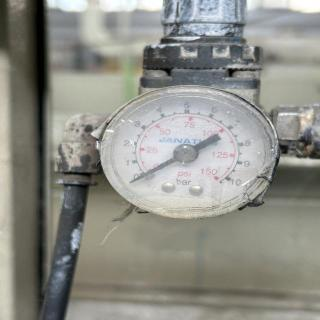gauge: (96, 85, 280, 227), (126, 166, 154, 192), (216, 168, 240, 192), (173, 144, 197, 164), (127, 178, 137, 186)
